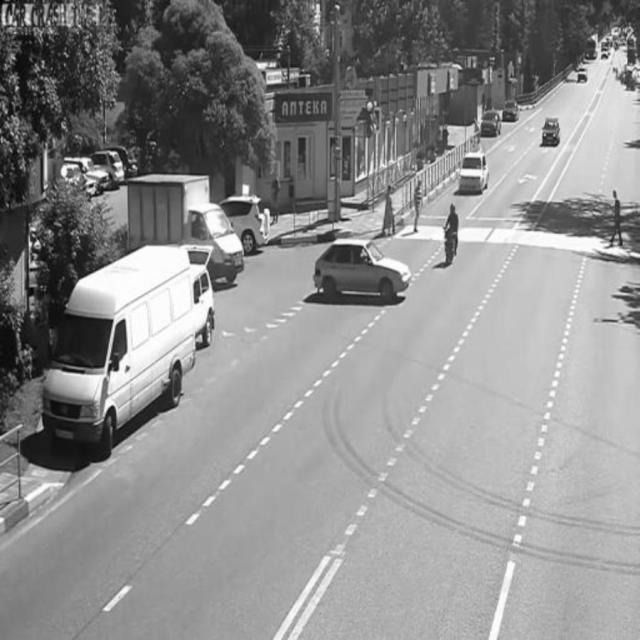person: (609, 180, 626, 248), (411, 174, 426, 235), (382, 181, 398, 237)
vehicle: (44, 255, 192, 450), (127, 173, 245, 281), (310, 234, 411, 304), (221, 196, 272, 253), (457, 149, 493, 197), (91, 142, 125, 190), (441, 194, 461, 272), (478, 105, 506, 140), (539, 113, 564, 150), (502, 95, 522, 125), (576, 61, 592, 85)
